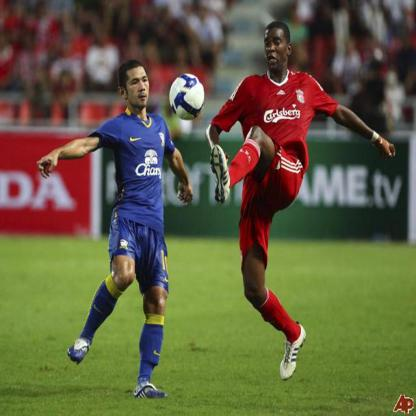face: (127, 67, 150, 108), (265, 30, 288, 71)
